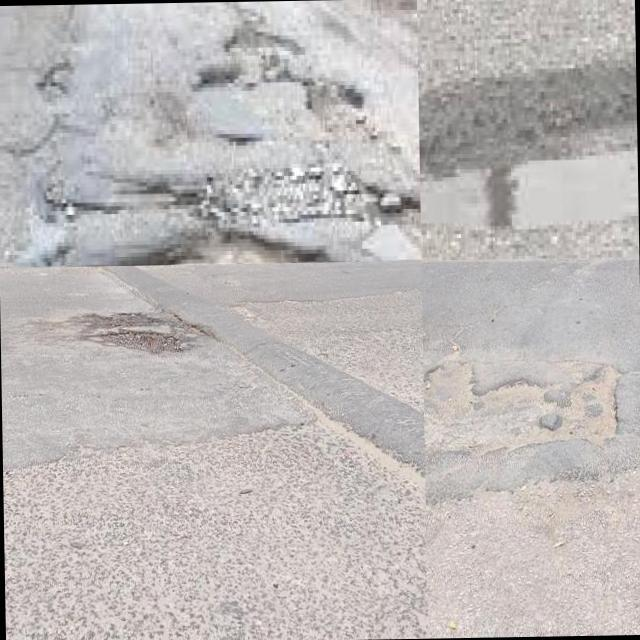Pothole: (419, 101, 638, 230), (153, 28, 368, 141), (537, 357, 622, 454), (469, 377, 549, 457), (72, 311, 181, 357), (380, 193, 421, 248)
